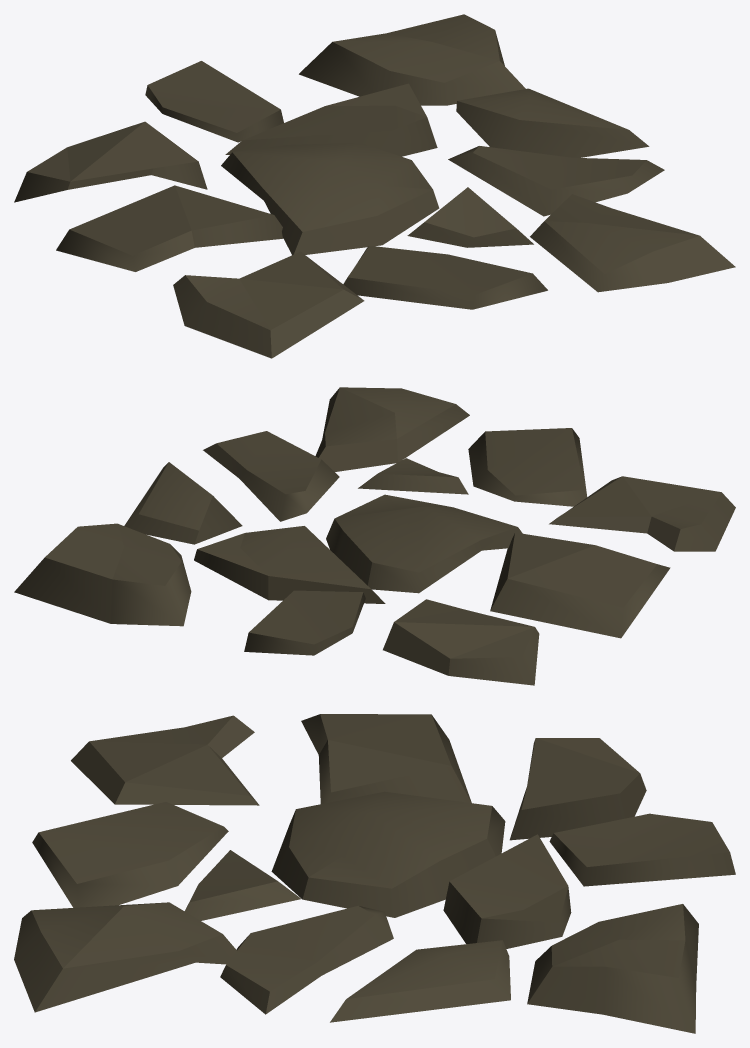
File: stone road01.fbx
3 views of the same model, one above another, from view 1: azimuth 30°, elevation 25°; view 2: azimuth 150°, elevation 25°; view 3: azimuth 270°, elevation 25° (orthographic). The views are drawn at different scales.
Parts seen in each view (by area): view 1: Stone road01; view 2: Stone road01; view 3: Stone road01.
Boxes of the visible parts, bbox=[...] form: Stone road01: bbox=[14, 14, 735, 358]; Stone road01: bbox=[14, 387, 735, 685]; Stone road01: bbox=[14, 714, 735, 1033].
Size of the model in its own units: 1.38 by 0.1562 by 1.43.
